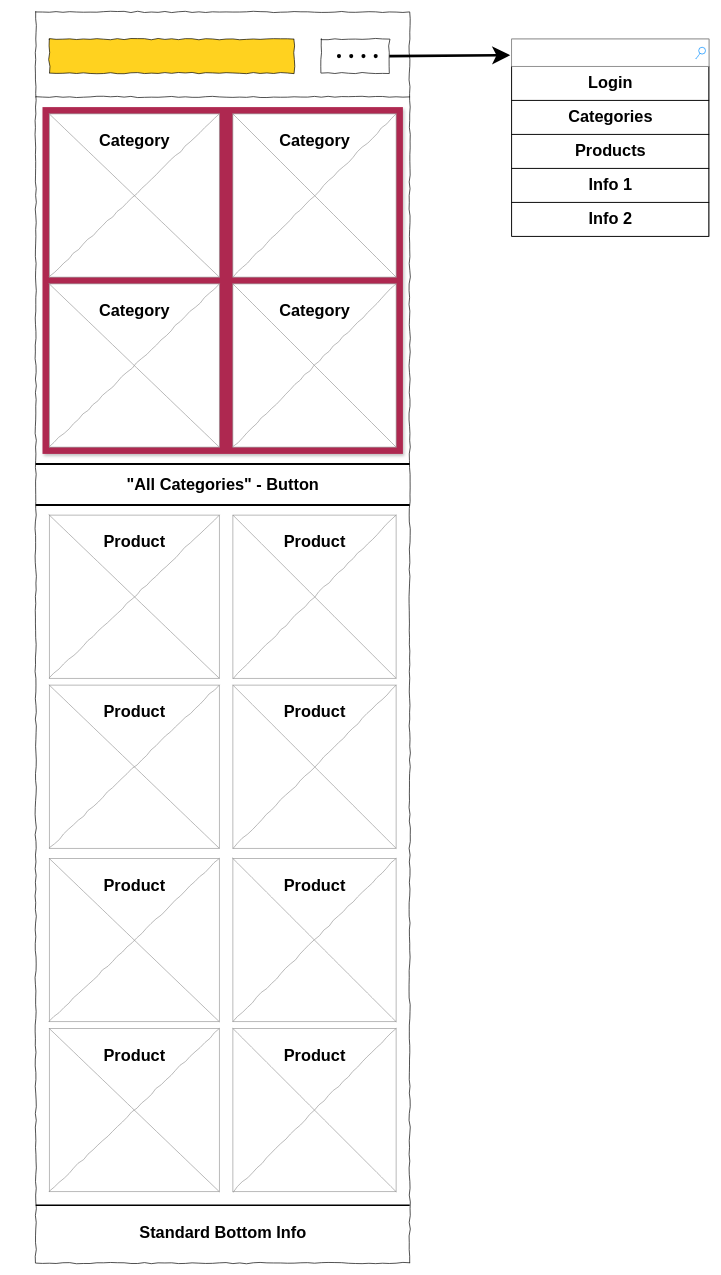
Image size: 721x1275. Some labels were removed from this diagram. The shapes that lost their labels are listed below. From the top down, each one's centre as x and y in pixels, then its label:
point (171, 55): LOGO 1
point (610, 52): Search
